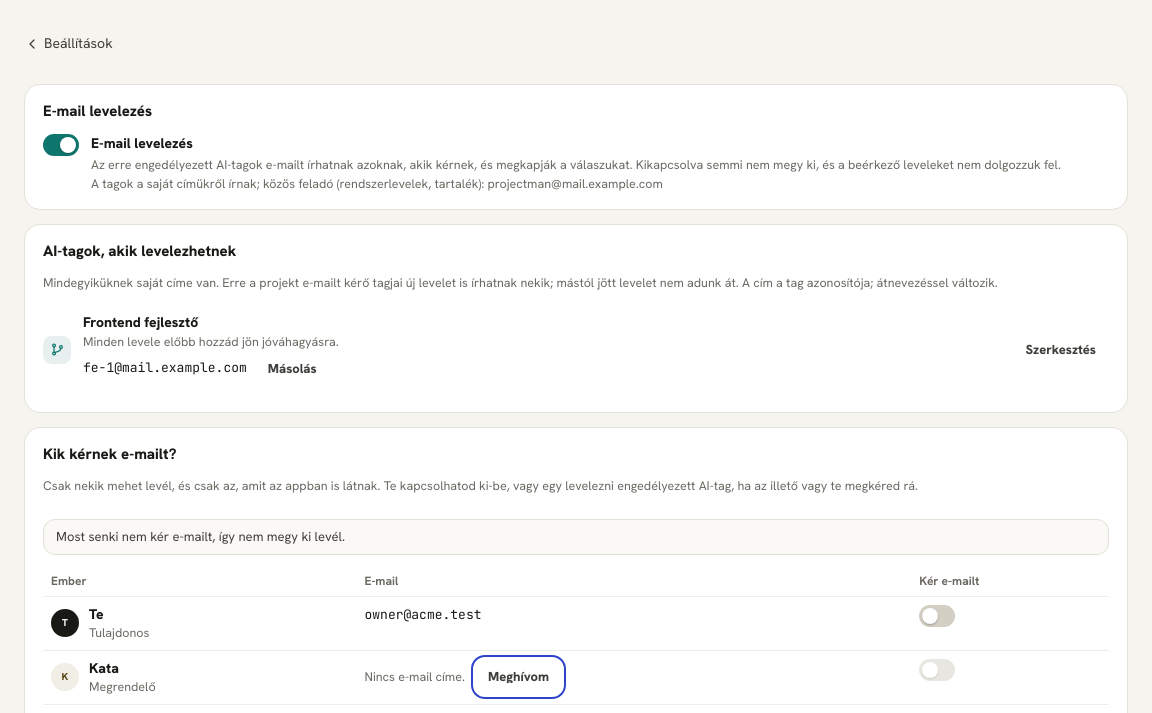
Test: the e-mail settings section › invites a person without an address and then shows the invitation as pending
Click the button "Meghívom".
click(518, 677)  # box [475, 659, 562, 695]
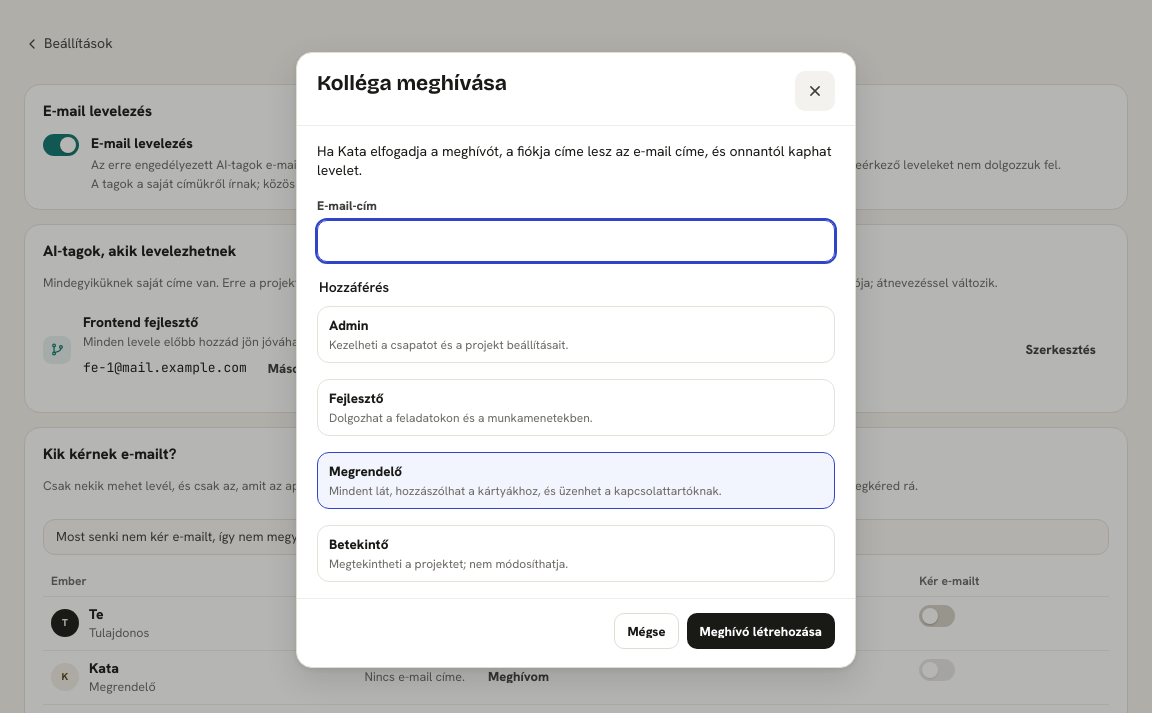
Type "kata@example.com" into the field labelled "E-mail-cím".
click(576, 241); type("kata@example.com")  # box [317, 220, 835, 262]
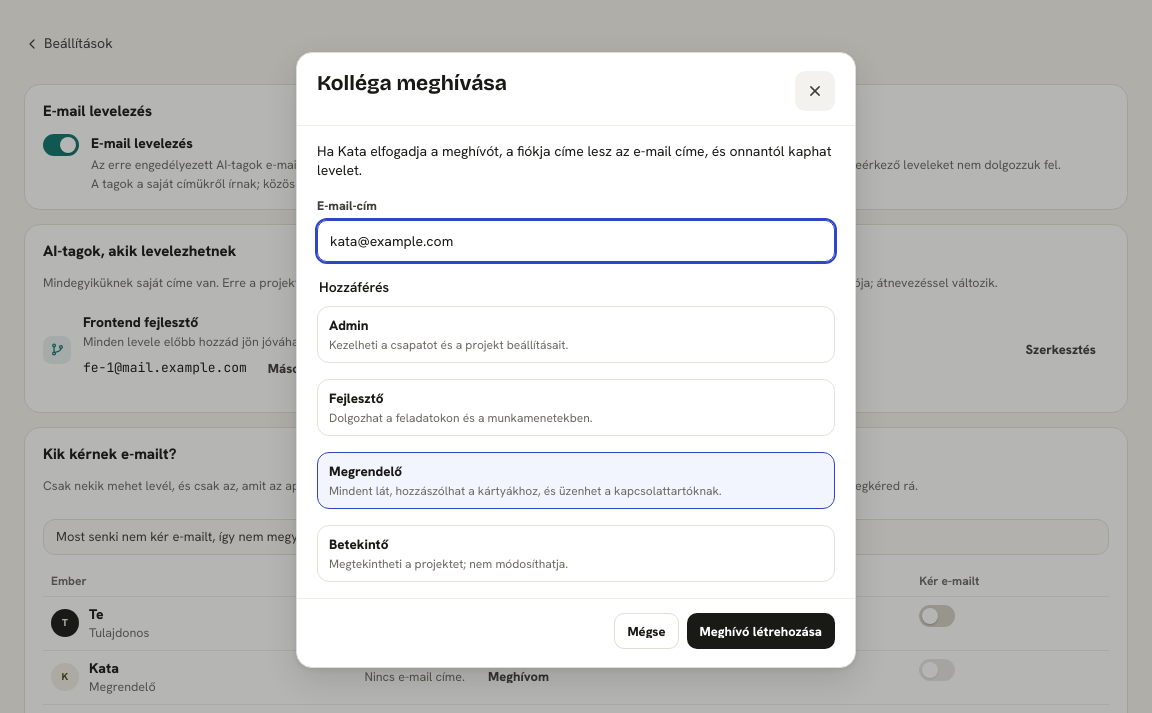
expect the button "Meghívó létrehozása" is enabled: met
Click the button "Meghívó létrehozása".
click(761, 631)  # box [686, 613, 835, 649]
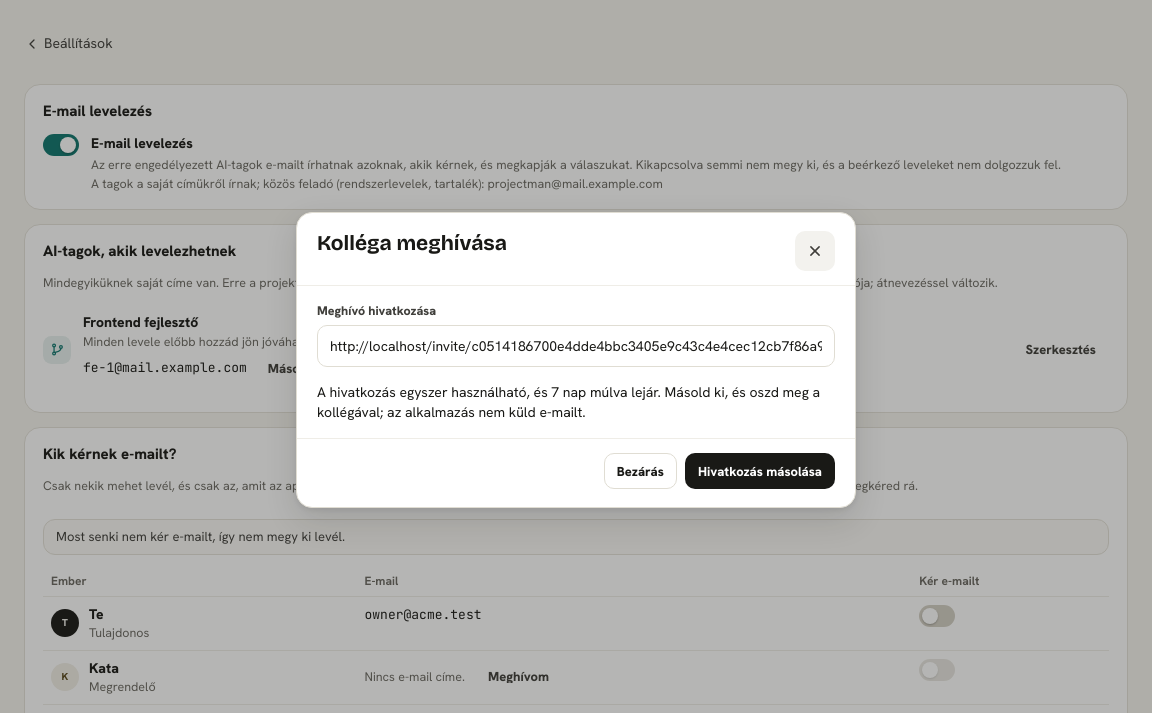
Click the button named "Bezárás".
click(815, 251)  # box [795, 231, 835, 271]
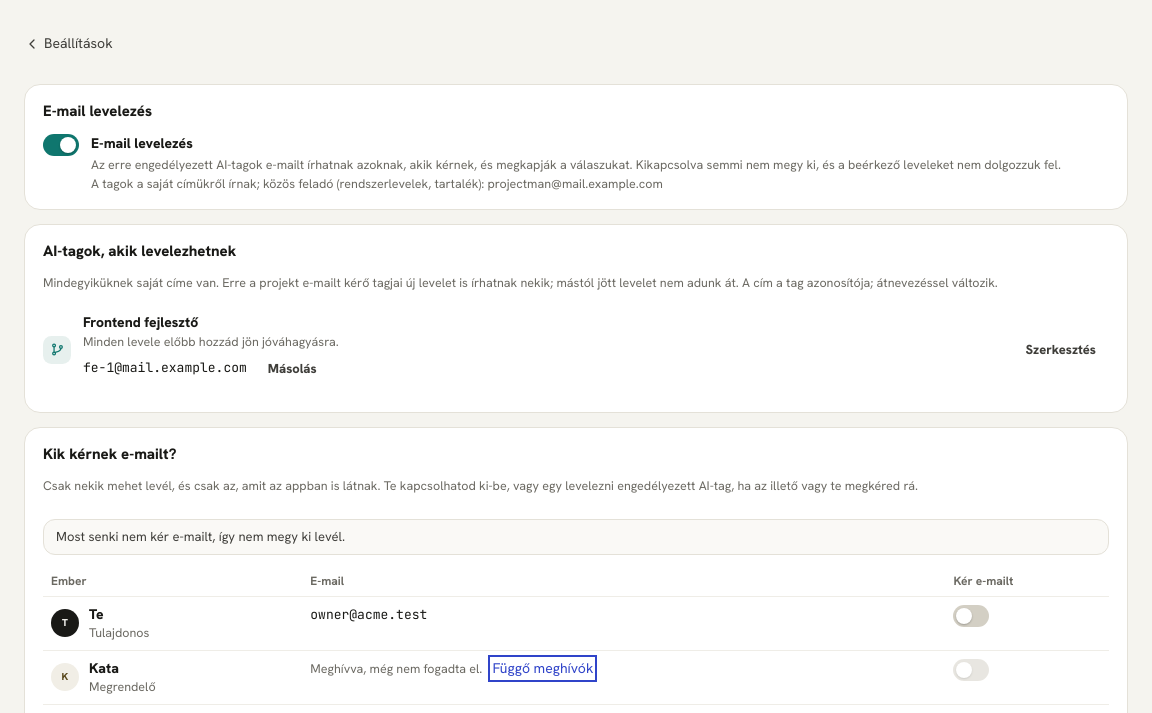
expect the text "Meghívva, még nem fogadta el." is shown: met, box [310, 660, 482, 677]
